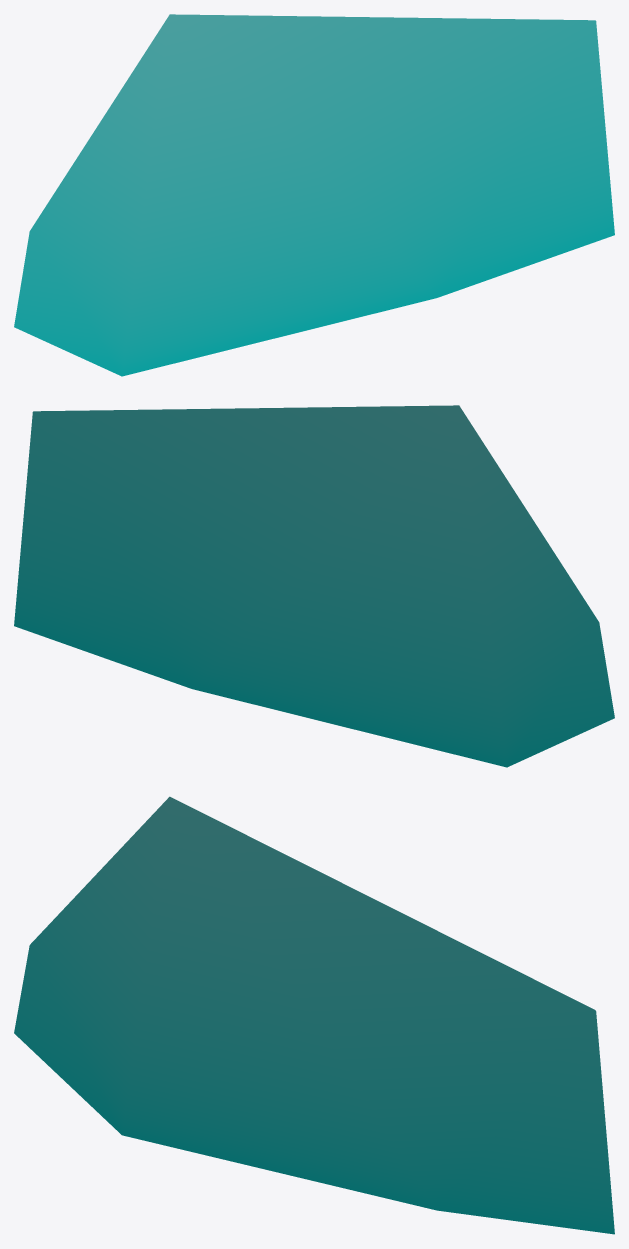
Rendered from Wild_Grass_vczndjqja_Mid_vczndjqja_VarD_LOD3.fbx.
The picture shows the model from 3 angles, top to bottom: view 1: azimuth 30°, elevation 25°; view 2: azimuth 150°, elevation 25°; view 3: azimuth 330°, elevation 25°; orthographic projection.
Parts seen in each view (by area): view 1: _xsbo_VarD_LOD4; view 2: _xsbo_VarD_LOD4; view 3: _xsbo_VarD_LOD4.
Part boxes in pixels (x1,y1,x2,y2): _xsbo_VarD_LOD4: (14, 14, 614, 376); _xsbo_VarD_LOD4: (14, 405, 614, 767); _xsbo_VarD_LOD4: (14, 796, 614, 1234).
Size of the model in its own units: 139 by 77.37 by 0.
